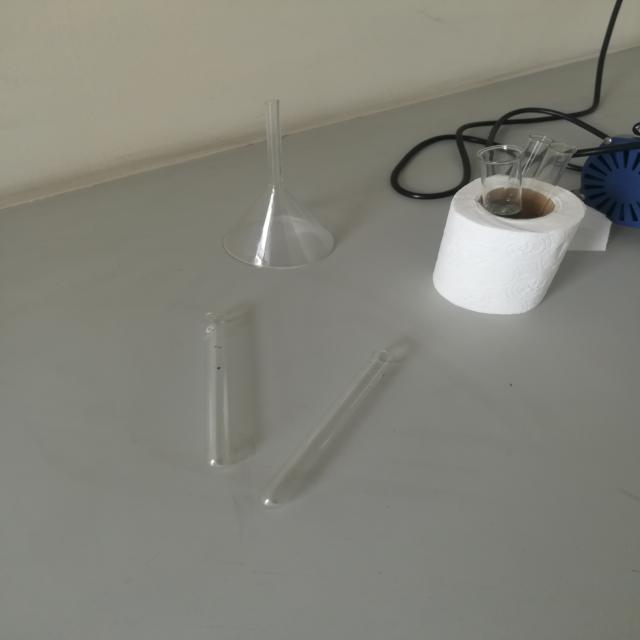Funnel: (205, 62, 375, 288)
Test_Tube: (246, 331, 435, 538), (170, 289, 258, 473)
